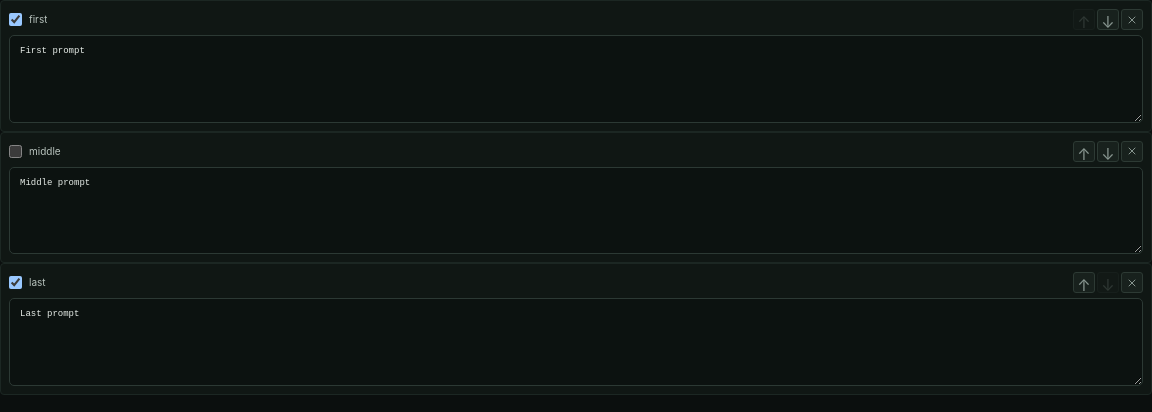
it: PromptBlocksEditor › removes a disabled prompt from the session draft and normalizes the remaining order
Click the button named "Remove middle from session draft" at (1132, 151), box top-left (1121, 140), bottom-right (1143, 162)
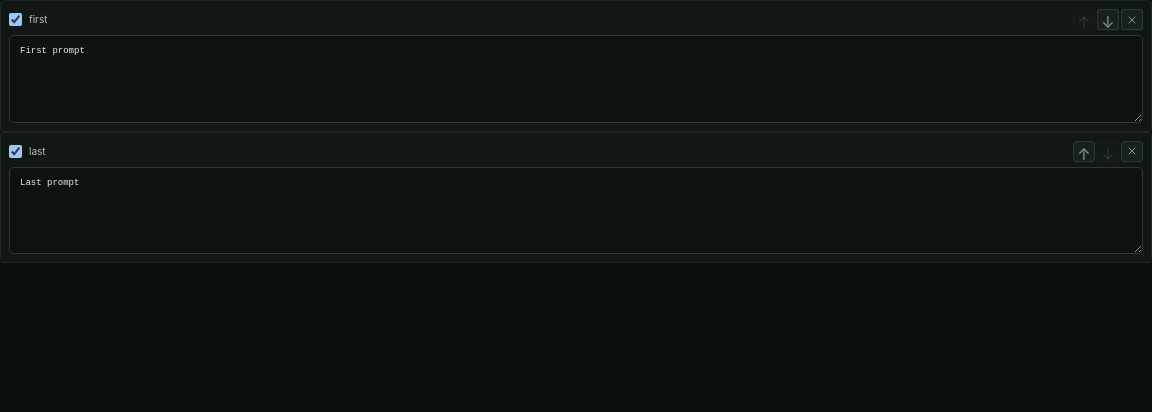
expect the text box named "first prompt content" is shown: met, box top-left (9, 35), bottom-right (1143, 122)
expect the text box named "last prompt content" is shown: met, box top-left (9, 166), bottom-right (1143, 254)
